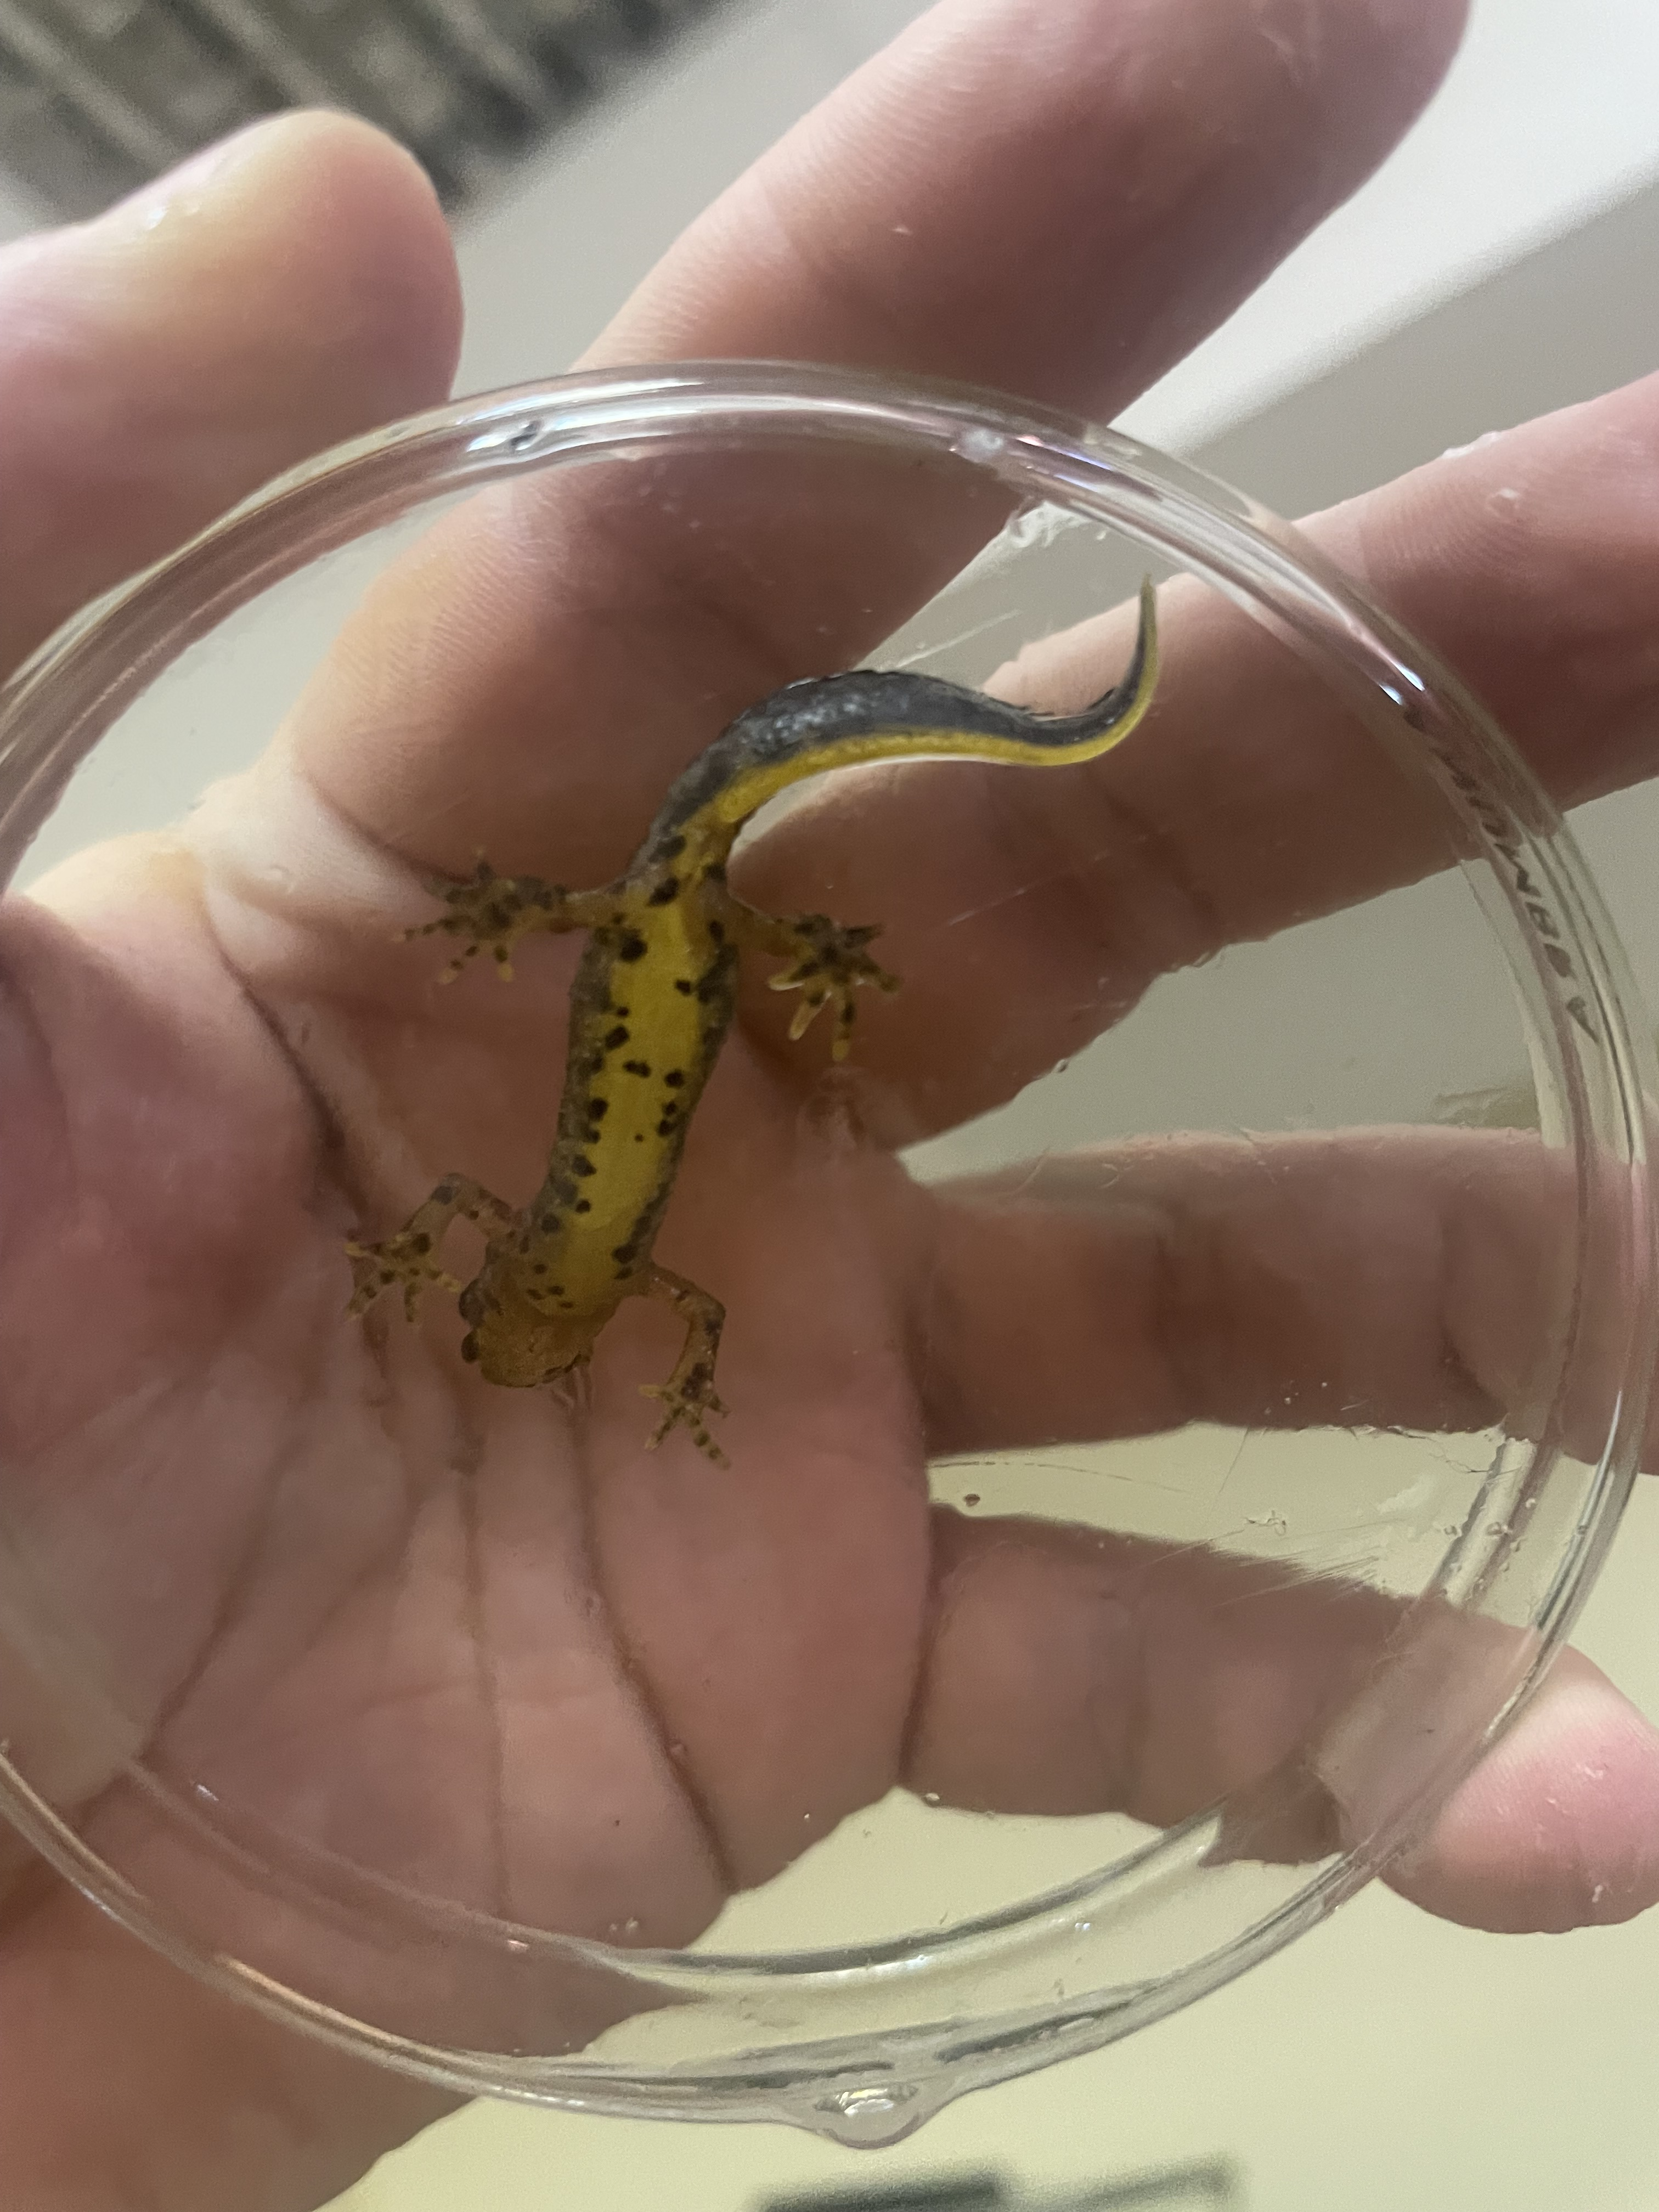Karelin_newt: (514, 928, 742, 1261)
